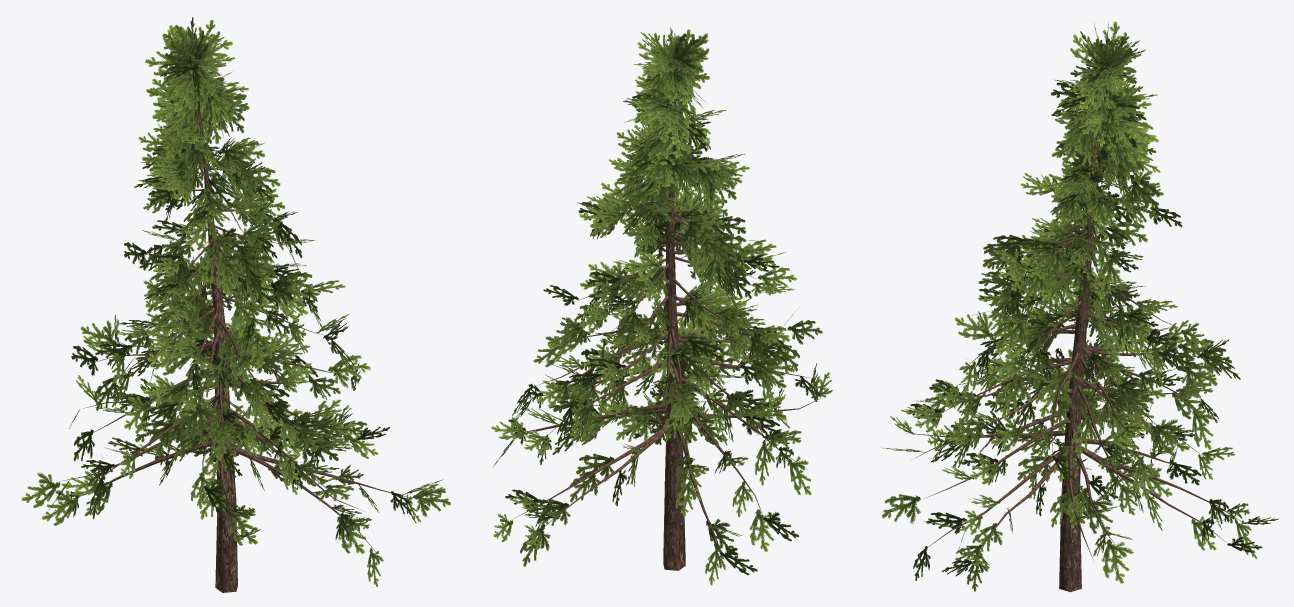
File: pine_sparse.glb
The picture shows the model from 3 angles, left to right: view 1: azimuth 30°, elevation 25°; view 2: azimuth 150°, elevation 25°; view 3: azimuth 270°, elevation 25°; orthographic projection.
Visible parts, largest first — view 1: Tree; view 2: Tree; view 3: Tree.
Part boxes in pixels (left/top/right/bottom): Tree: left=21, top=17, right=450, bottom=592; Tree: left=491, top=27, right=832, bottom=585; Tree: left=882, top=21, right=1278, bottom=592.
Bounding box in the file's own units: 34.1 × 53.92 × 35.59.
2 materials, 2 textured.
